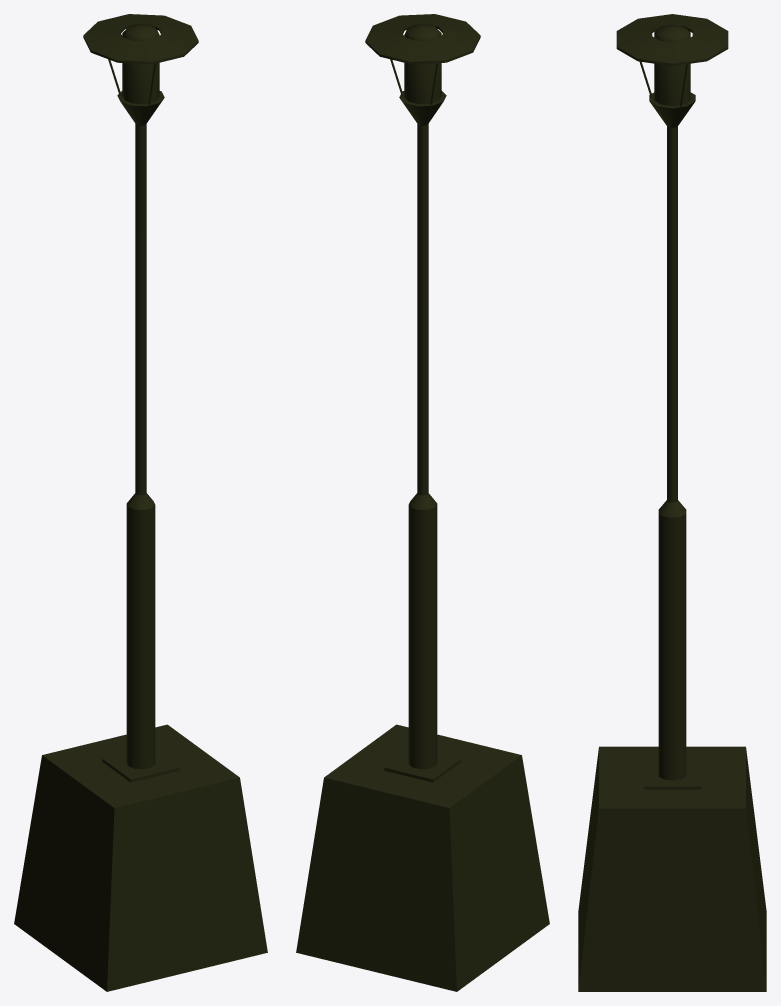
Rendered from parking_lamp.FBX.
3 renders of one model, left to right at view 1: azimuth 30°, elevation 25°; view 2: azimuth 150°, elevation 25°; view 3: azimuth 270°, elevation 25°, orthographic.
Parts seen in each view (by area): view 1: parking_lamp; view 2: parking_lamp; view 3: parking_lamp.
Boxes of the visible parts, bbox=[...] form: parking_lamp: bbox=[14, 14, 267, 991]; parking_lamp: bbox=[296, 14, 549, 991]; parking_lamp: bbox=[578, 14, 766, 991].
Size of the model in its own units: 0.7019 by 3.8 by 0.7019.
